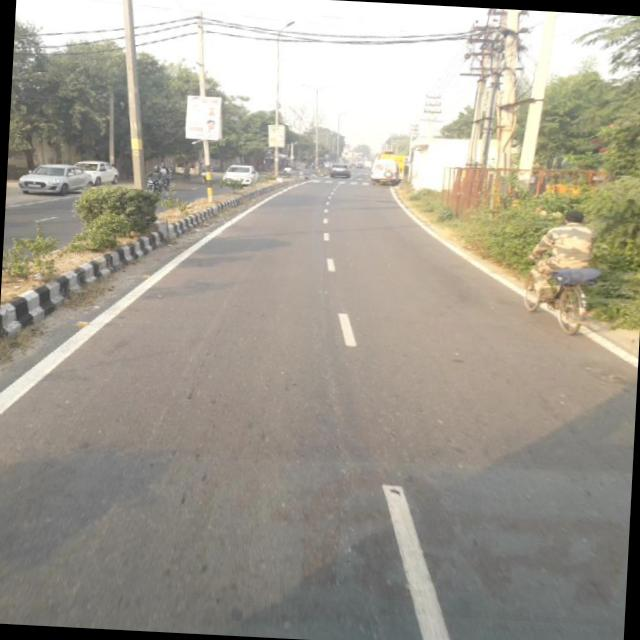pothole: (67, 252, 255, 594)
